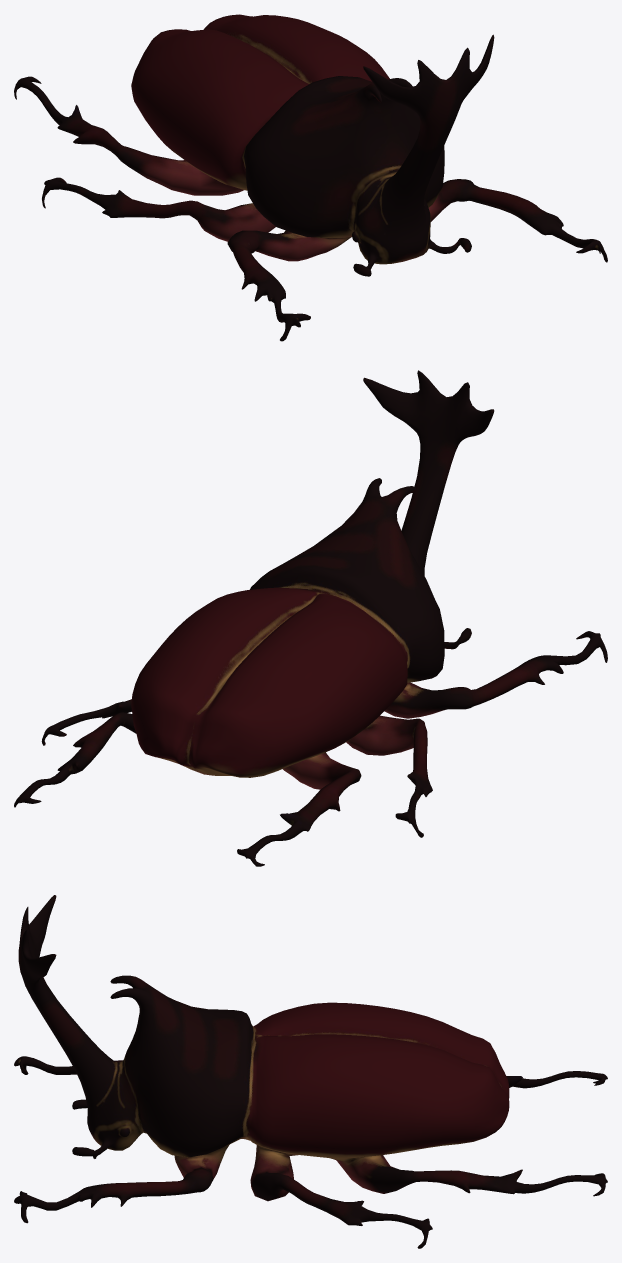
The model's file is beetle.glb.
3 renders of one model, top to bottom at view 1: azimuth 30°, elevation 25°; view 2: azimuth 150°, elevation 25°; view 3: azimuth 270°, elevation 25°, orthographic. The views are drawn at different scales.
Visible parts, largest first — view 1: beetle_low; view 2: beetle_low; view 3: beetle_low.
Boxes of the visible parts, x1,y1,x2,y2 form: beetle_low: (14, 14, 607, 341); beetle_low: (14, 370, 607, 866); beetle_low: (14, 895, 607, 1248).
Size of the model in its own units: 0.4717 by 0.3139 by 0.6845.
1 material, 1 textured.
